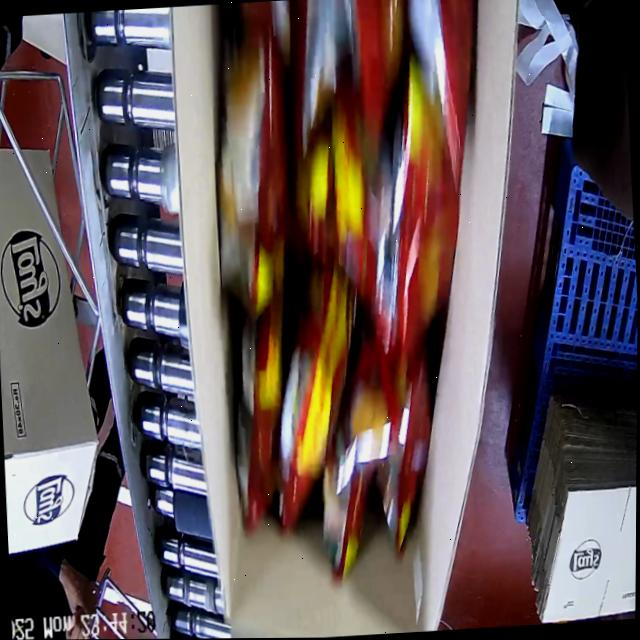MASALA: (200, 0, 504, 575)
